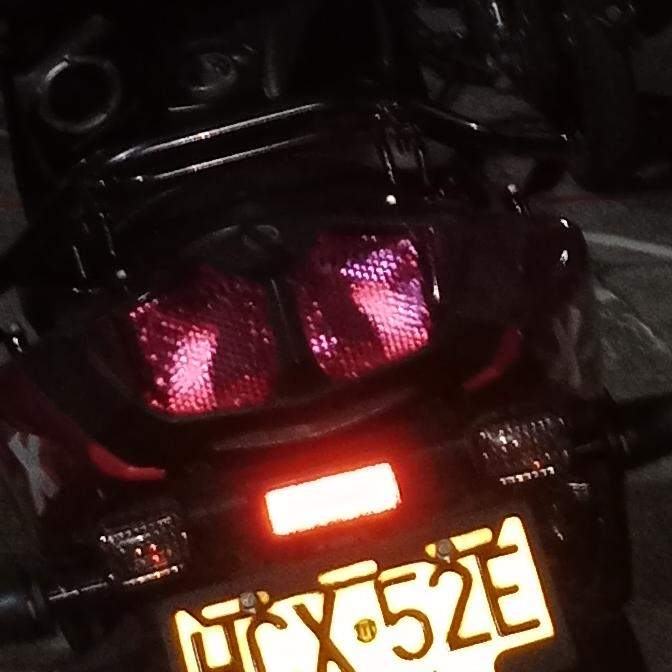plates: (151, 517, 573, 672)
